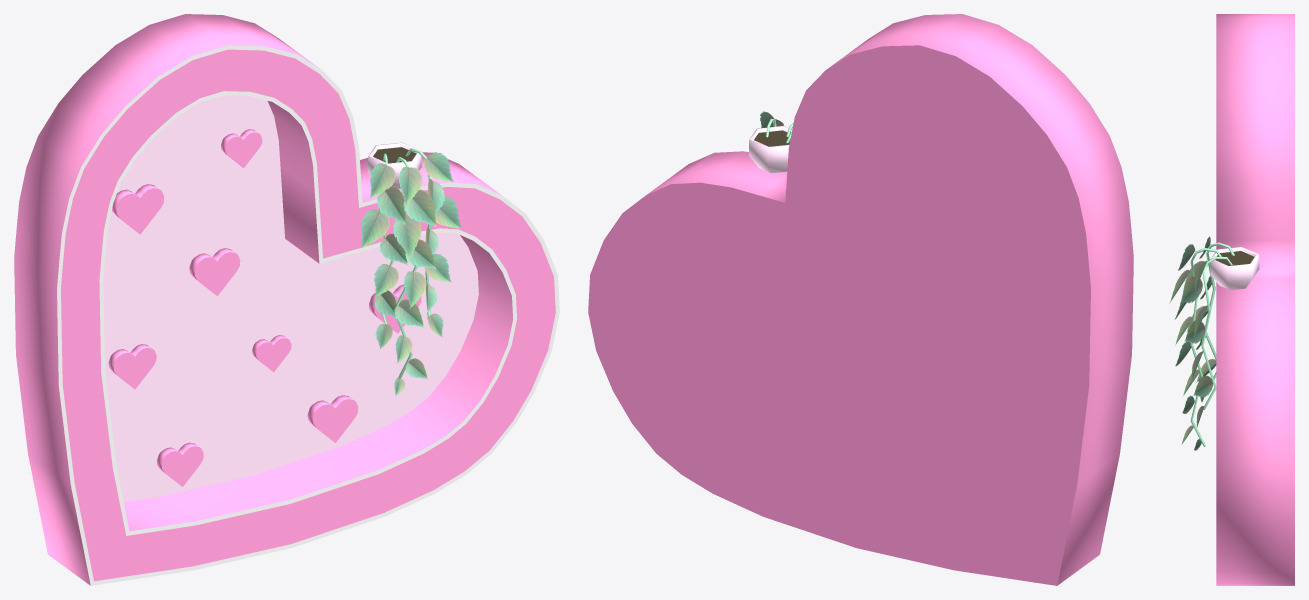
The model's file is BigHeart2.glb.
3 renders of one model, left to right at view 1: azimuth 30°, elevation 25°; view 2: azimuth 150°, elevation 25°; view 3: azimuth 270°, elevation 25°, orthographic. The views are drawn at different scales.
Visible parts, largest first — view 1: BigHeart2; view 2: BigHeart2; view 3: BigHeart2.
Boxes of the visible parts, left/top/right/bottom form: BigHeart2: left=14, top=14, right=559, bottom=585; BigHeart2: left=588, top=14, right=1133, bottom=585; BigHeart2: left=1169, top=14, right=1294, bottom=585.
Size of what is drawn, in the model's own units: 3.37 by 3.31 by 0.8399.
Materials: 3 (3 with a texture image).
